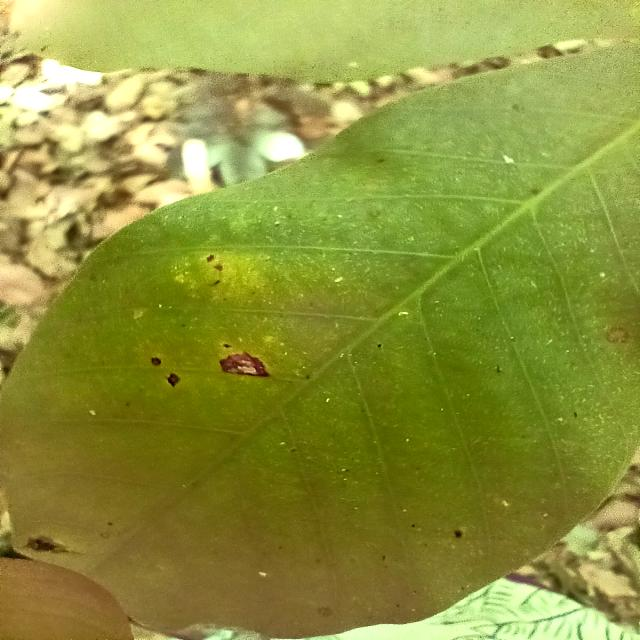Colletotrichum: (166, 372, 180, 387), (150, 356, 162, 367), (452, 529, 465, 538)
